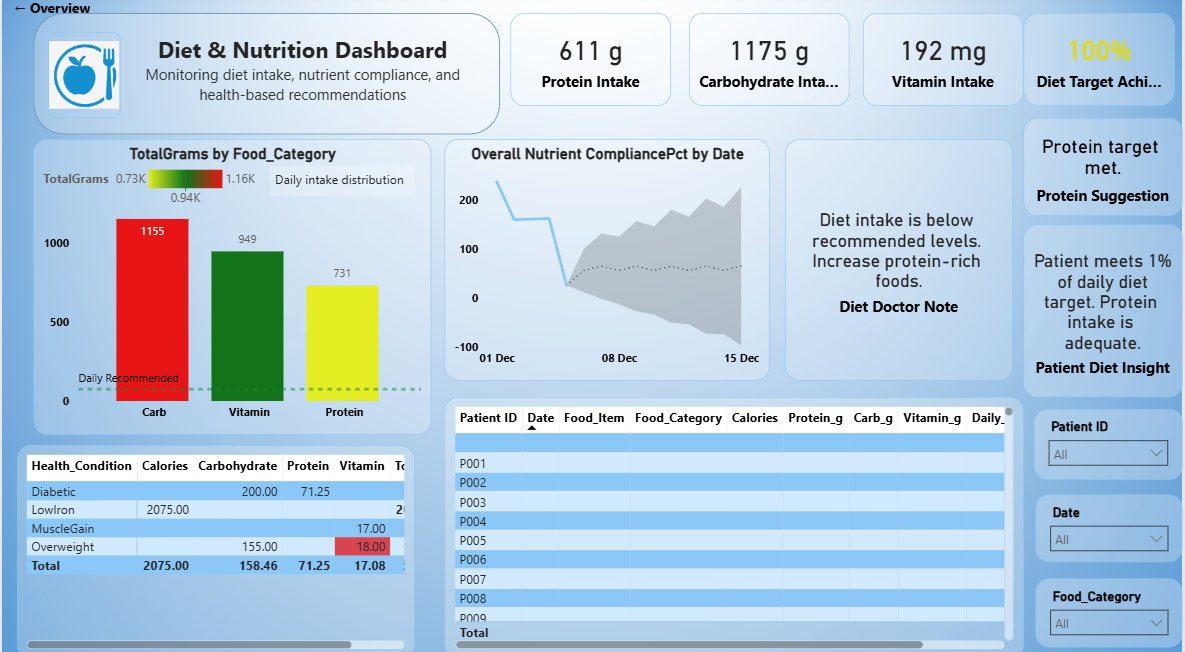

What the dashboard file says about the page in this screenshot:
{"tool":"powerbi","page":{"name":"health&nutrition","canvas":[1280,720],"ordinal":8},"visuals":[{"type":"card","fields":{"Values":["Diet_log.TotalProtein_KPI"]},"box":[551.4,19.5,174,100.8],"z":0},{"type":"card","fields":{"Values":["Diet_log.TotalCarb_KPI"]},"box":[745,19.5,174,100.8],"z":1000},{"type":"card","fields":{"Values":["Diet_log.TotalVitamin_KPI"]},"box":[933.6,19.5,174,100.8],"z":2000},{"type":"card","fields":{"Values":["Diet_log.DietCompliancePct_KPI"]},"box":[1107.7,19.5,164.3,100.8],"z":3000},{"type":"card","fields":{"Values":["Diet_log.ProteinSuggestion"]},"box":[1107.7,133.4,172.4,105.7],"z":4000},{"type":"columnChart","fields":{"Category":["Diet_log.Food_Category"],"Y":["Diet_log.TotalGrams"]},"box":[34.2,156.1,431,320.4],"z":5000},{"type":"tableEx","fields":{"Values":["Patients.Patient ID","Diet_log.Date","Diet_log.Food_Item","Diet_log.Food_Category","Diet_log.Calories","Diet_log.Protein_g","Diet_log.Carb_g","Diet_log.Vitamin_g","Diet_log.DietCompliancePct"]},"box":[479.8,435.9,627.8,284.6],"z":6000},{"type":"pivotTable","fields":{"Rows":["Diet_Recommendations.Health_Condition"],"Columns":["Diet_Recommendations.Food_Category"],"Values":["Avg(Diet_Recommendations.Recommended_Intake)"]},"box":[16.3,488,431,232.6],"z":7000},{"type":"slicer","fields":{"Values":["Diet_Recommendations.Food_Category"]},"box":[1120.7,632.7,159.4,74.8],"z":8000},{"type":"slicer","fields":{"Values":["Diet_log.Date"]},"box":[1120.7,541.6,159.4,73.2],"z":9000},{"type":"slicer","fields":{"Values":["Patients.Patient ID"]},"box":[1119.1,448.9,161,76.4],"z":10000},{"type":"lineChart","title":"Overall Nutrient CompliancePct by Date","fields":{"Category":["Diet_log.Date"],"Y":["Diet_log.OverallNutrientCompliancePct"]},"box":[479.8,156.1,353,261.9],"z":11000},{"type":"card","fields":{"Values":["Diet_log.Diet Doctor Note"]},"box":[849.1,156.1,247.2,261.9],"z":12000},{"type":"card","fields":{"Values":["Diet_log.Patient Diet Insight"]},"box":[1107.7,248.9,172.4,187.1],"z":13000},{"type":"shape","box":[34.2,19.5,505.9,131.8],"z":14000},{"type":"image","box":[50.4,40.7,78.1,92.7],"z":15000},{"type":"textbox","box":[128.5,19.5,395.3,131.8],"z":16000},{"type":"textbox","box":[291.2,185.4,156.1,32.5],"z":17000},{"type":"actionButton","box":[0,0,109,19.5],"z":18000}]}

Visuals, with their boxes on the page's 1280x720 design canvas (x1, y1, x2, y2). These are canvas units, not pixel positions in the 1185x652 screenshot, which may show the page scaled, cropped or inside an application window:
card - Diet_log.TotalProtein_KPI: (left=551, top=20, right=725, bottom=120)
card - Diet_log.TotalCarb_KPI: (left=745, top=20, right=919, bottom=120)
card - Diet_log.TotalVitamin_KPI: (left=934, top=20, right=1108, bottom=120)
card - Diet_log.DietCompliancePct_KPI: (left=1108, top=20, right=1272, bottom=120)
card - Diet_log.ProteinSuggestion: (left=1108, top=133, right=1280, bottom=239)
columnChart - Diet_log.Food_Category x Diet_log.TotalGrams: (left=34, top=156, right=465, bottom=476)
tableEx - Patients.Patient ID x Diet_log.Date: (left=480, top=436, right=1108, bottom=720)
pivotTable - Diet_Recommendations.Health_Condition x Diet_Recommendations.Food_Category: (left=16, top=488, right=447, bottom=721)
slicer - Diet_Recommendations.Food_Category: (left=1121, top=633, right=1280, bottom=708)
slicer - Diet_log.Date: (left=1121, top=542, right=1280, bottom=615)
slicer - Patients.Patient ID: (left=1119, top=449, right=1280, bottom=525)
"Overall Nutrient CompliancePct by Date" lineChart: (left=480, top=156, right=833, bottom=418)
card - Diet_log.Diet Doctor Note: (left=849, top=156, right=1096, bottom=418)
card - Diet_log.Patient Diet Insight: (left=1108, top=249, right=1280, bottom=436)
shape: (left=34, top=20, right=540, bottom=151)
image: (left=50, top=41, right=128, bottom=133)
textbox: (left=128, top=20, right=524, bottom=151)
textbox: (left=291, top=185, right=447, bottom=218)
actionButton: (left=0, top=0, right=109, bottom=20)
